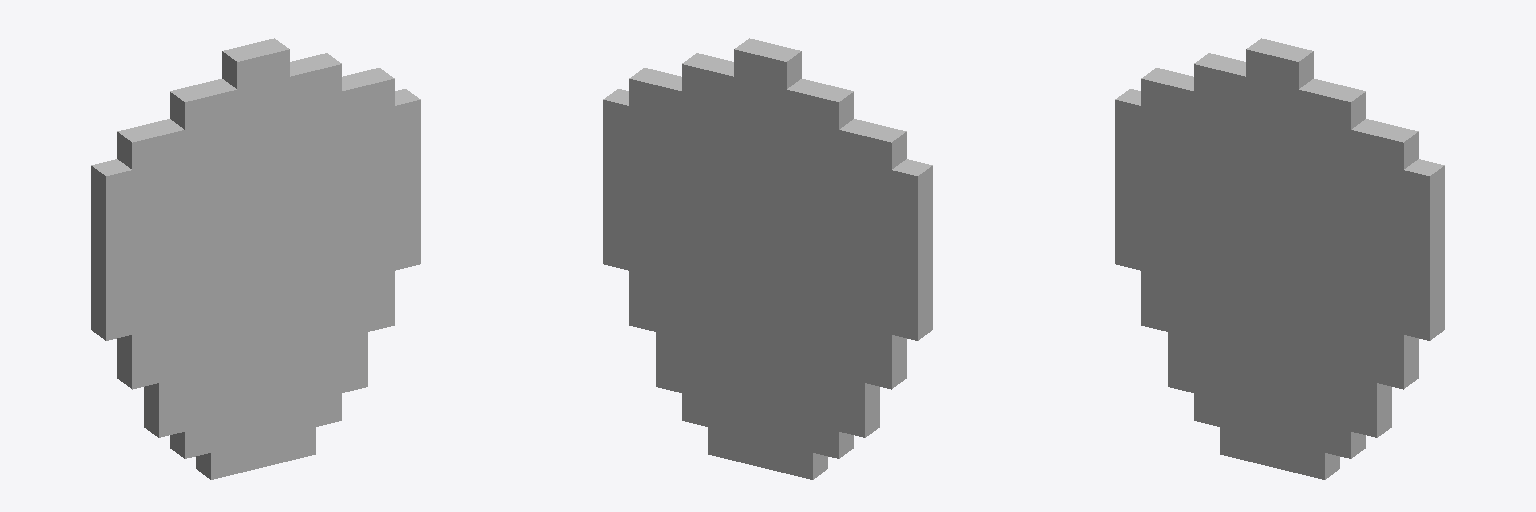
File: Shield.obj
3 views of the same model, side by side, from view 1: azimuth 30°, elevation 25°; view 2: azimuth 150°, elevation 25°; view 3: azimuth 330°, elevation 25° (orthographic).
Size of the model in its own units: 12 by 15 by 1.